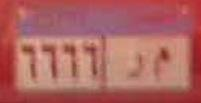6: (80, 39, 99, 82), (39, 41, 58, 83), (61, 42, 80, 80), (19, 43, 38, 79)
meem: (151, 43, 170, 84)
raa: (123, 51, 146, 81)
